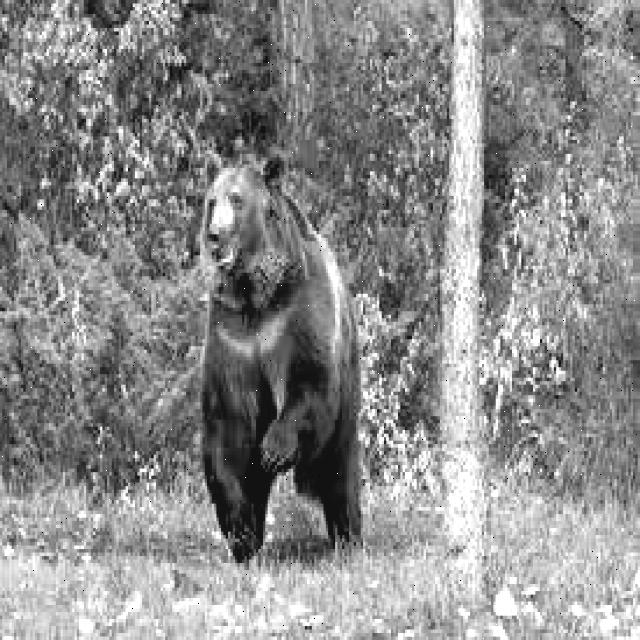bear: (192, 152, 380, 544)
